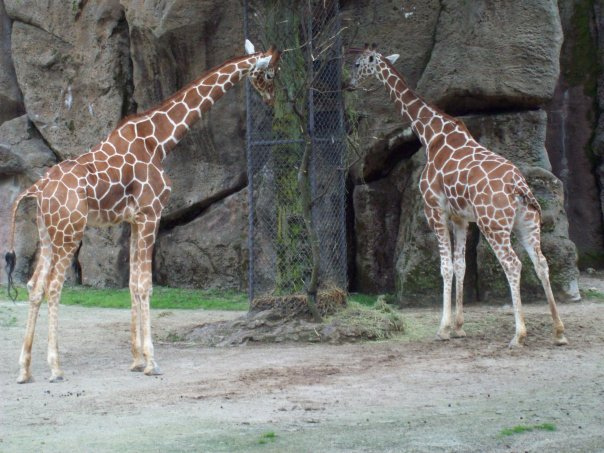giraffe: (16, 37, 295, 376), (336, 33, 590, 371)
